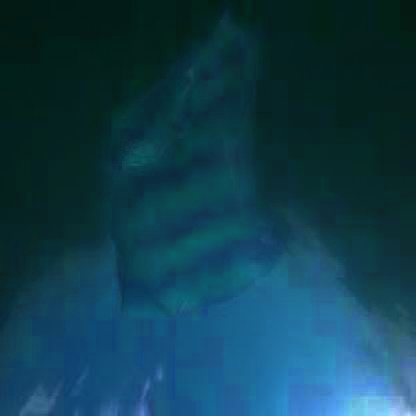pbag: (96, 3, 288, 330)
